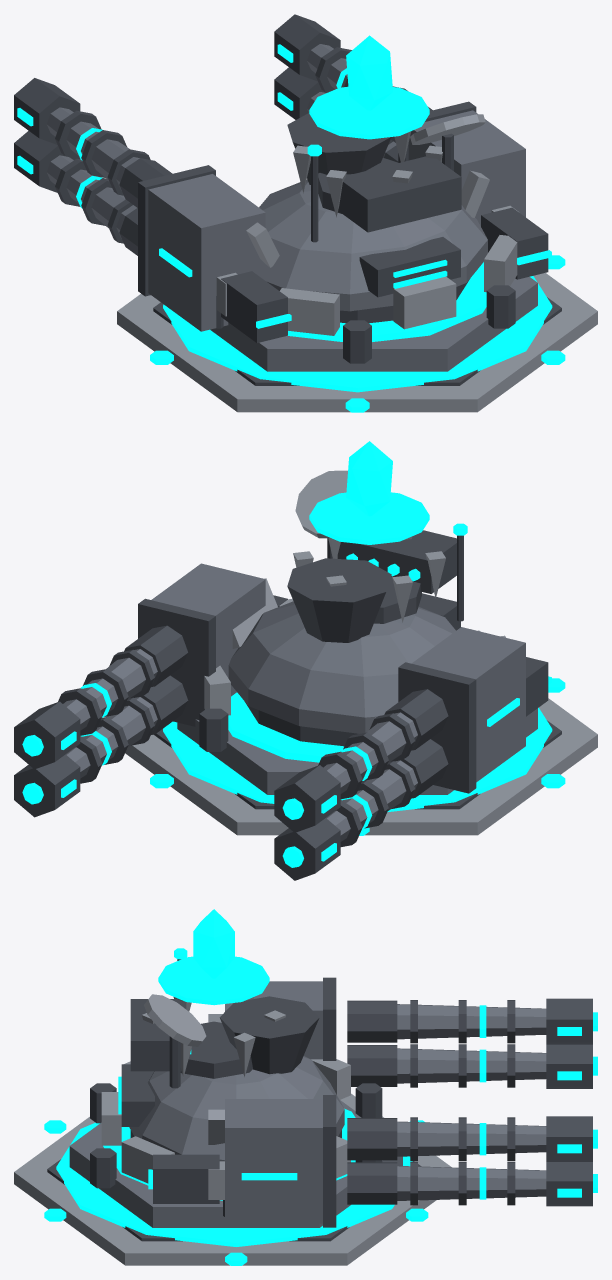
The model's file is turret_lvl8.fbx.
3 views of the same model, one above another, from view 1: azimuth 30°, elevation 25°; view 2: azimuth 150°, elevation 25°; view 3: azimuth 270°, elevation 25° (orthographic). The views are drawn at different scales.
Visible parts, largest first — view 1: BaseTier_73, Dome_05, PodBody_07, Base_01, Neon_BaseRing2_103, MissileRack_90, PodBody_30, Neon_CoreRing_102, SaddleBag_68, BackVent_55, CentreSensor_53, Neon_BaseRing_03 (+32 smaller); view 2: Dome_05, BaseTier_73, PodBody_07, CentreSensor_53, PodPlate_08, Neon_BaseRing2_103, PodBody_30, PodPlate_31, Neon_CoreRing_102, Base_01, MissileRack_90, MuzzleBrake_49 (+33 smaller); view 3: BaseTier_73, PodBody_30, Dome_05, Neon_BaseRing2_103, Base_01, CentreSensor_53, BarrelTube_11, Neon_CoreRing_102, BarrelTube_44, BarrelTube_21, BarrelTube_34, SaddleBag_70 (+28 smaller).
Boxes of the visible parts, box(x1,y1,x2,y2) form: BaseTier_73: box(117, 273, 597, 412); Dome_05: box(252, 179, 487, 311); PodBody_07: box(148, 174, 265, 331); Base_01: box(210, 276, 537, 371); Neon_BaseRing2_103: box(163, 276, 552, 392); MissileRack_90: box(338, 156, 461, 232); PodBody_30: box(408, 110, 525, 226); Neon_CoreRing_102: box(309, 86, 429, 139); SaddleBag_68: box(221, 271, 287, 342); BackVent_55: box(359, 237, 460, 297); CentreSensor_53: box(287, 113, 391, 184); Neon_BaseRing_03: box(287, 262, 486, 341); Dome_05: box(228, 601, 455, 733); BaseTier_73: box(125, 698, 597, 835); PodBody_07: box(412, 627, 525, 782); CentreSensor_53: box(287, 558, 391, 642); PodPlate_08: box(398, 662, 476, 793); Neon_BaseRing2_103: box(163, 707, 552, 812); PodBody_30: box(151, 563, 265, 696); PodPlate_31: box(138, 598, 215, 726); Neon_CoreRing_102: box(309, 492, 429, 544); Base_01: box(177, 708, 537, 794); MissileRack_90: box(337, 530, 456, 593); MuzzleBrake_49: box(14, 701, 80, 768); BaseTier_73: box(14, 1093, 451, 1265); PodBody_30: box(225, 1099, 322, 1223); Dome_05: box(129, 1056, 344, 1161); Neon_BaseRing2_103: box(56, 1122, 412, 1246); Base_01: box(69, 1100, 402, 1227); CentreSensor_53: box(219, 996, 319, 1074); BarrelTube_11: box(397, 1048, 546, 1083); Neon_CoreRing_102: box(158, 956, 269, 1005); BarrelTube_44: box(397, 1121, 546, 1156); BarrelTube_21: box(397, 1004, 546, 1039); BarrelTube_34: box(397, 1166, 546, 1200); SaddleBag_70: box(153, 1154, 219, 1203).
Size of the model in its own units: 629 by 437 by 841.
